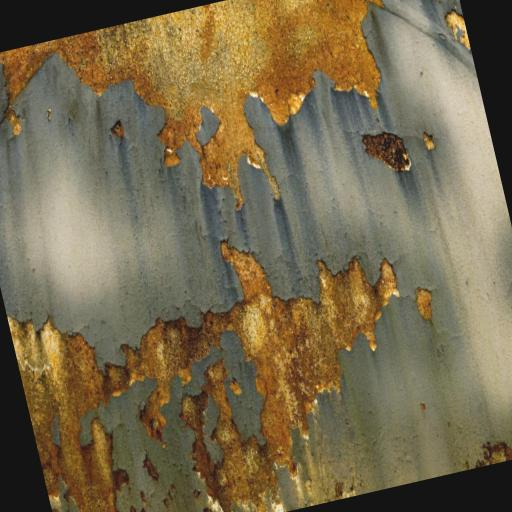corrosion: (0, 0, 384, 208), (150, 196, 410, 480), (8, 301, 127, 512), (198, 359, 279, 512), (121, 316, 198, 442), (196, 363, 259, 504), (355, 122, 421, 175), (179, 390, 216, 481), (180, 395, 203, 444), (104, 362, 129, 396), (137, 451, 161, 483), (416, 287, 433, 320)
